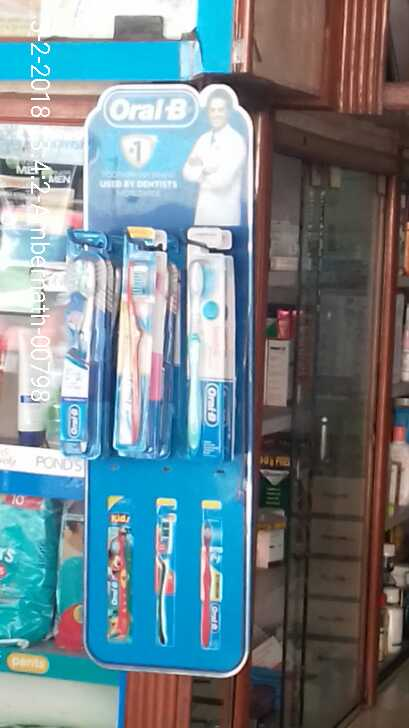oralb: (119, 245, 162, 457), (52, 265, 99, 453), (183, 266, 228, 456)
